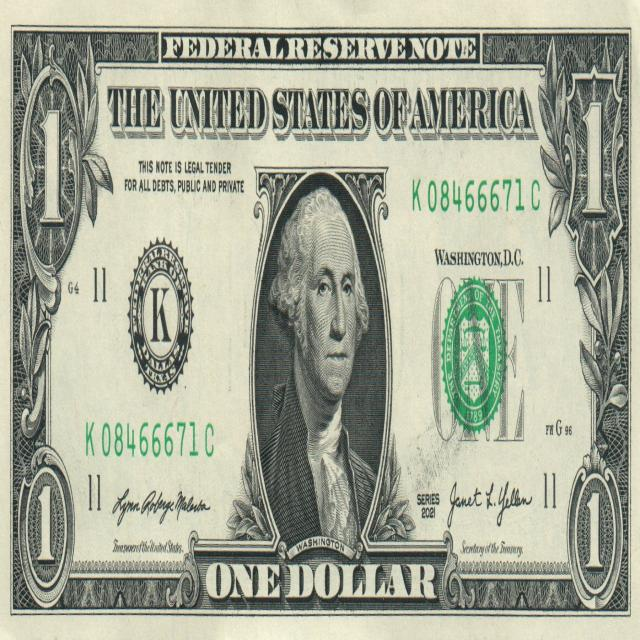SerialNumber: (86, 422, 213, 458), (413, 179, 539, 212)
